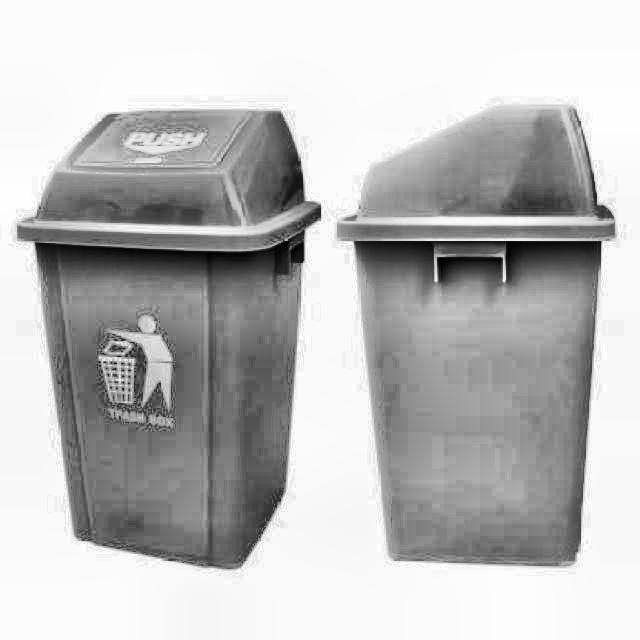Dustbin: (13, 95, 330, 580), (326, 93, 628, 589)
